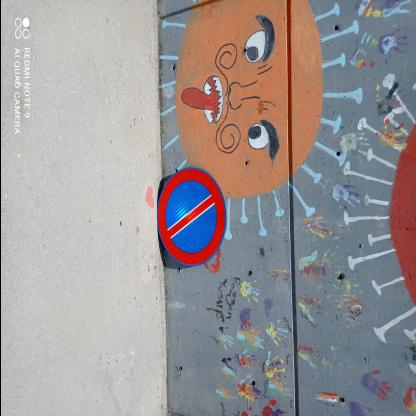No Waiting: (157, 168, 227, 268)
